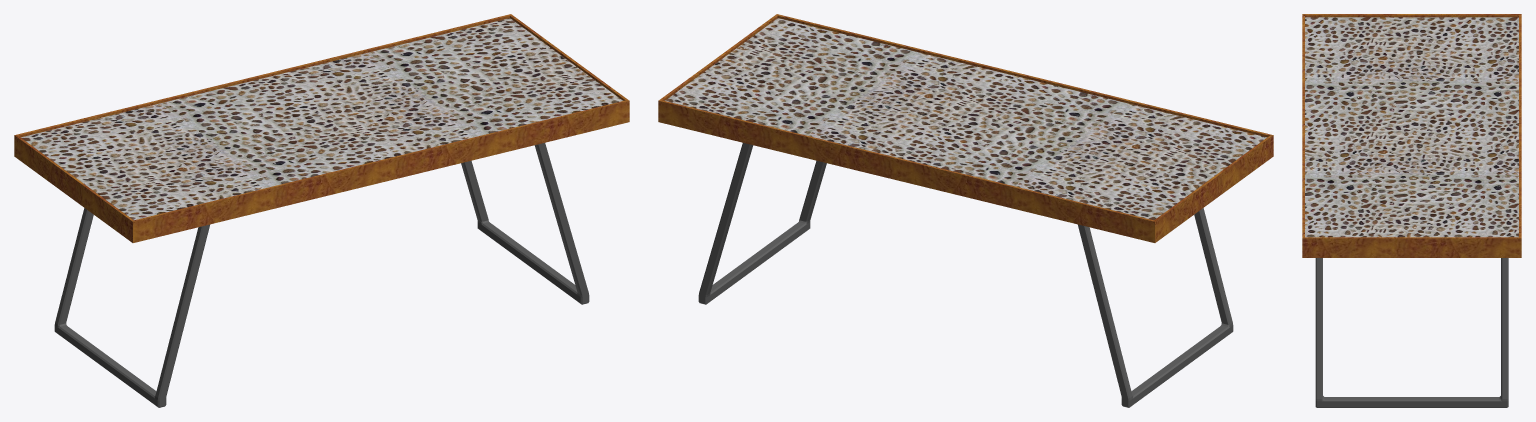
File: coffee-table2.obj
3 renders of one model, left to right at view 1: azimuth 30°, elevation 25°; view 2: azimuth 150°, elevation 25°; view 3: azimuth 270°, elevation 25°, orthographic. The views are drawn at different scales.
Parts seen in each view (by area): view 1: Cube.003_Cube.056, Cube.004_Cube.057; view 2: Cube.003_Cube.056, Cube.004_Cube.057; view 3: Cube.003_Cube.056, Cube.004_Cube.057.
Part boxes in pixels (x1=…): Cube.003_Cube.056: x1=14, y1=14, x2=629, y2=242; Cube.004_Cube.057: x1=54, y1=143, x2=589, y2=407; Cube.003_Cube.056: x1=658, y1=14, x2=1273, y2=242; Cube.004_Cube.057: x1=698, y1=143, x2=1233, y2=407; Cube.003_Cube.056: x1=1302, y1=14, x2=1521, y2=257; Cube.004_Cube.057: x1=1315, y1=258, x2=1508, y2=407.
Bounding box in the file's own units: 124 × 47.66 × 51.16.
3 materials, 2 textured.
